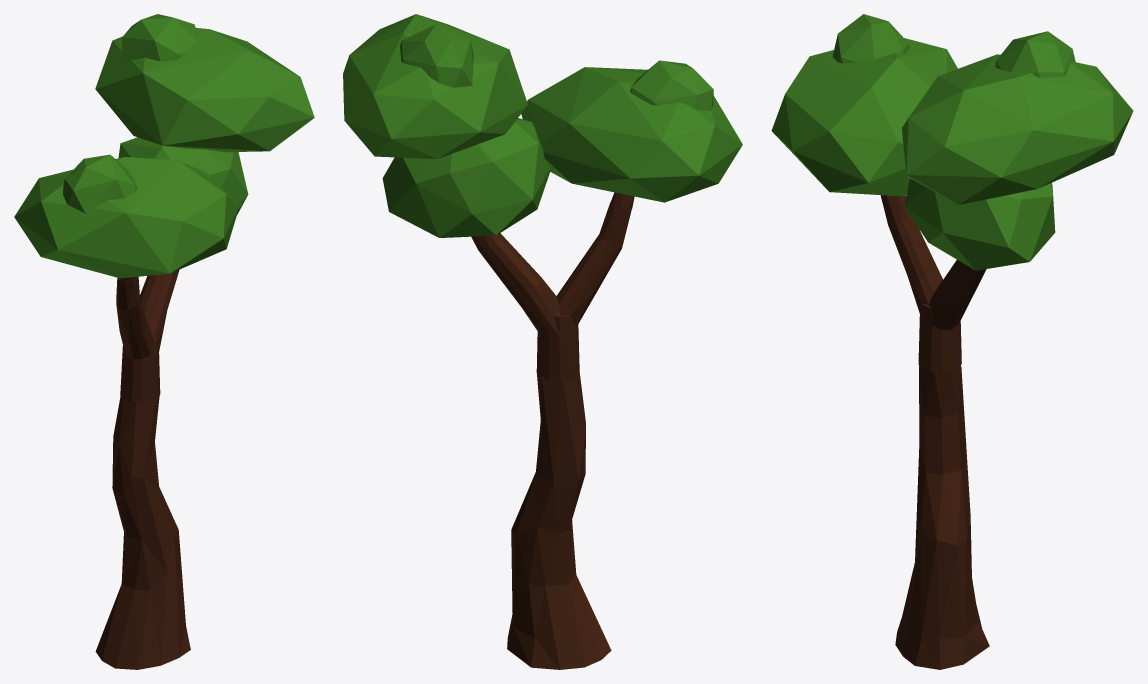
Rendered from GR_Tree_Slim_LOD1.fbx.
3 views of the same model, side by side, from view 1: azimuth 30°, elevation 25°; view 2: azimuth 150°, elevation 25°; view 3: azimuth 270°, elevation 25° (orthographic). The views are drawn at different scales.
Parts seen in each view (by area): view 1: GR_Tree_Slim_LOD1; view 2: GR_Tree_Slim_LOD1; view 3: GR_Tree_Slim_LOD1.
Part boxes in pixels (x1=…): GR_Tree_Slim_LOD1: x1=14, y1=14, x2=314, y2=669; GR_Tree_Slim_LOD1: x1=343, y1=14, x2=742, y2=669; GR_Tree_Slim_LOD1: x1=771, y1=14, x2=1133, y2=669.
Size of the model in its own units: 2.43 by 4.58 by 2.33.
2 materials, 2 textured.
